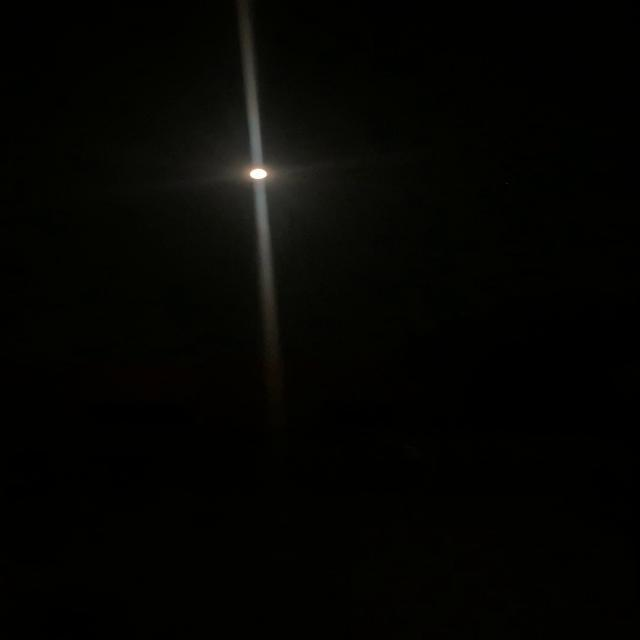moon: (229, 162, 293, 194)
